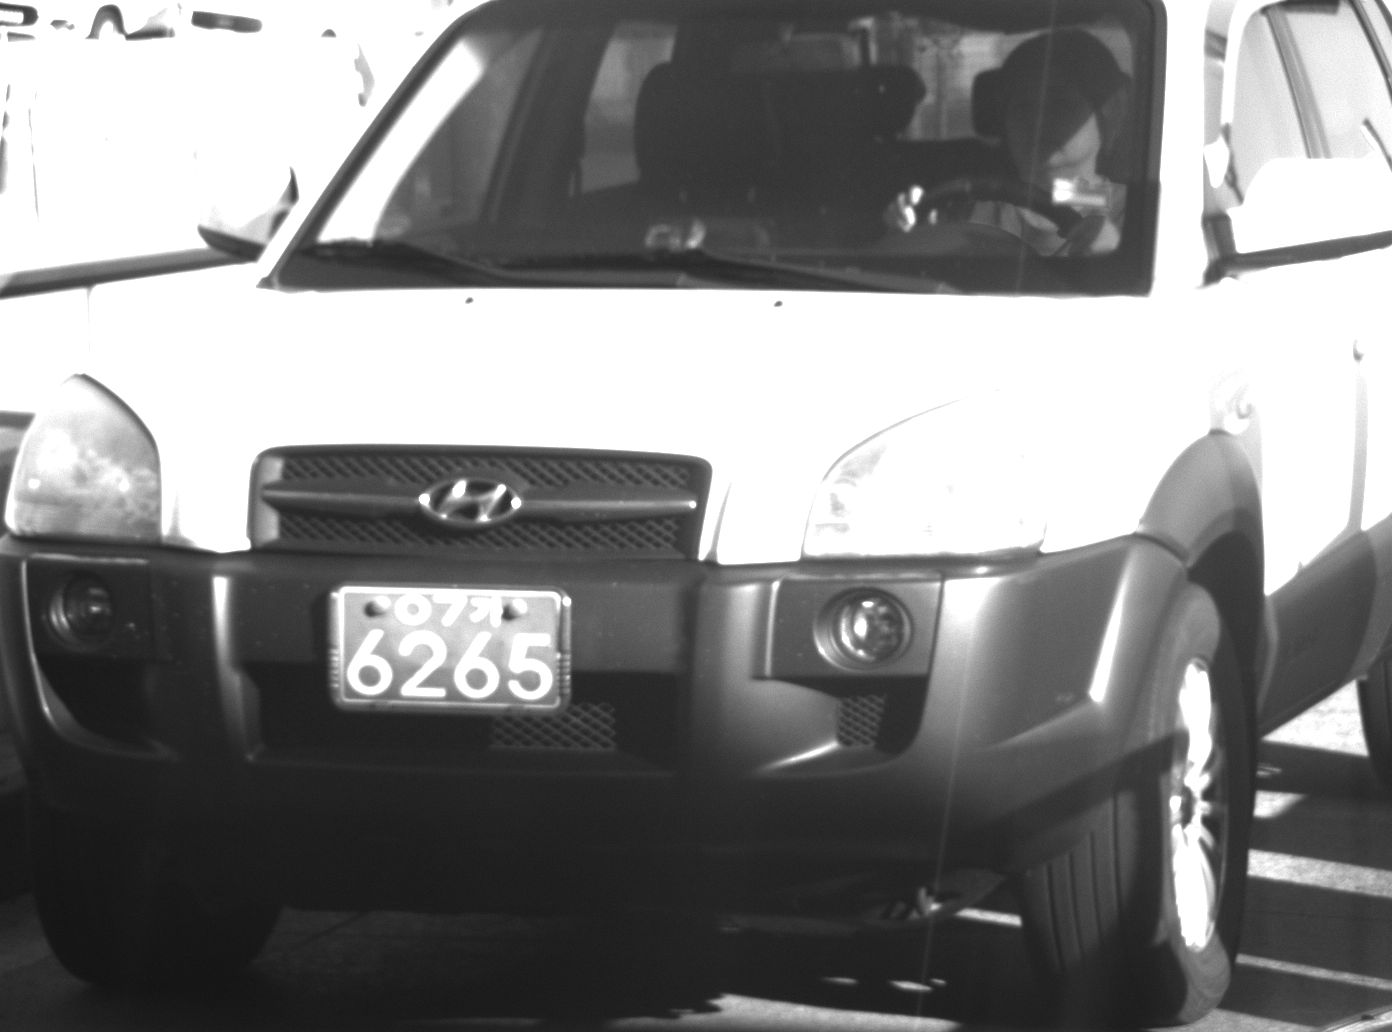car: (2, 1, 1392, 1028)
plate: (327, 580, 576, 720)
